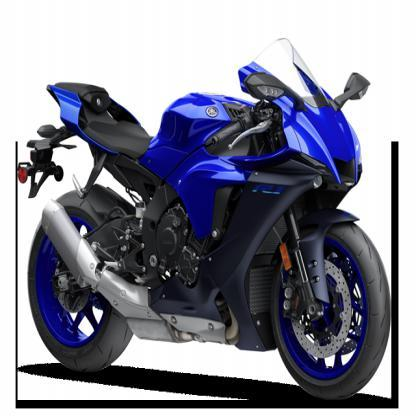Motorcycle: (13, 36, 393, 406)
